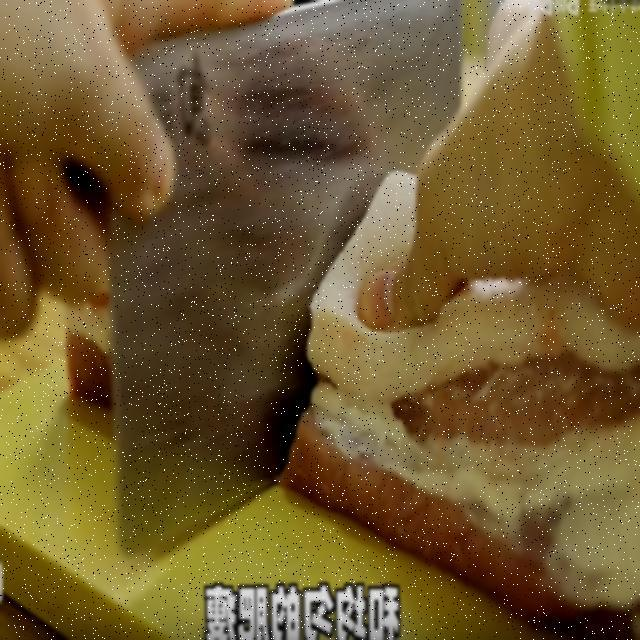pork: (281, 286, 639, 559)
